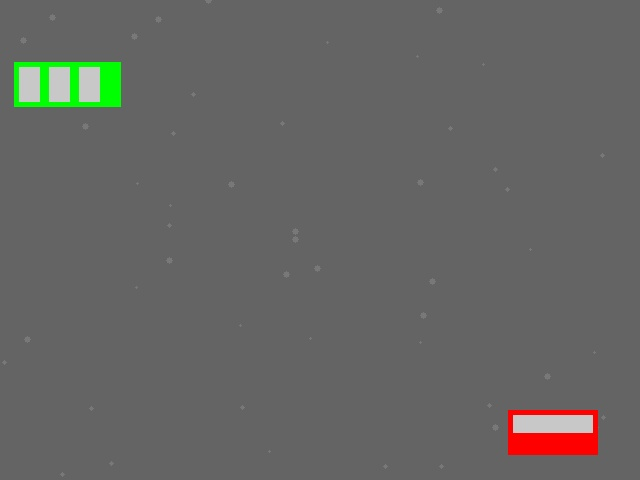bus: (14, 62, 120, 106)
car: (508, 410, 597, 454)
